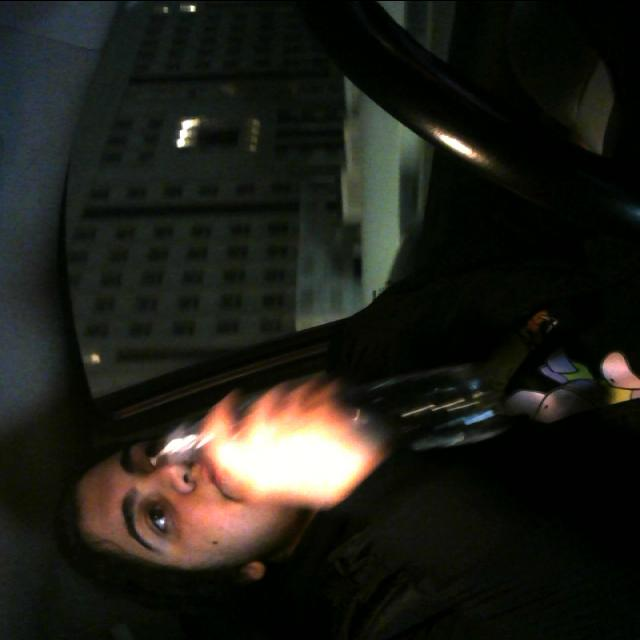drinking: (151, 358, 501, 482)
